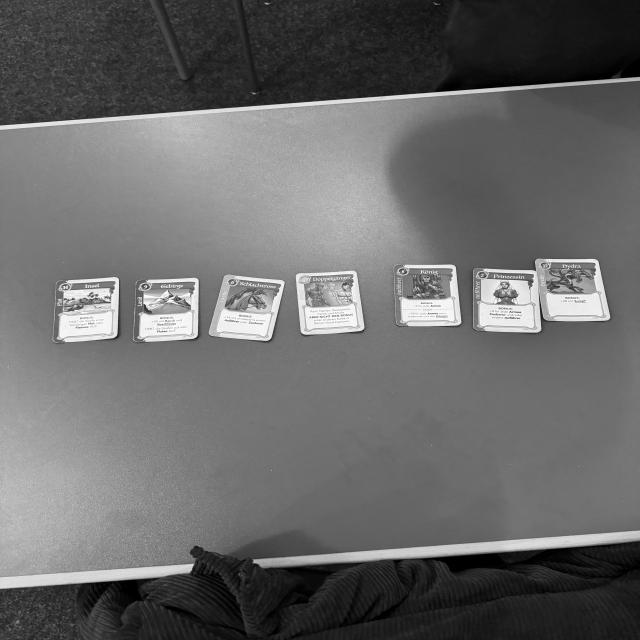Doppelganger: (293, 269, 368, 338)
Hydra: (534, 259, 612, 321)
Island: (51, 276, 120, 343)
King: (393, 265, 464, 326)
Mountain: (132, 275, 199, 344)
Princess: (473, 268, 544, 335)
War Horse: (207, 272, 286, 342)
